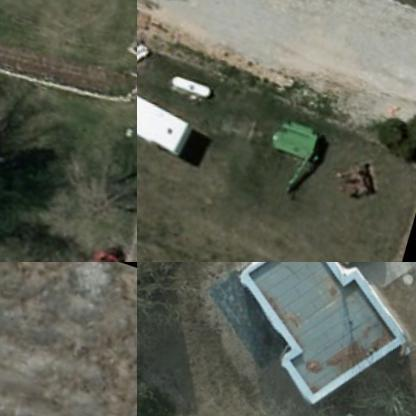camping car: (137, 64, 199, 150)
car: (80, 234, 133, 261)
